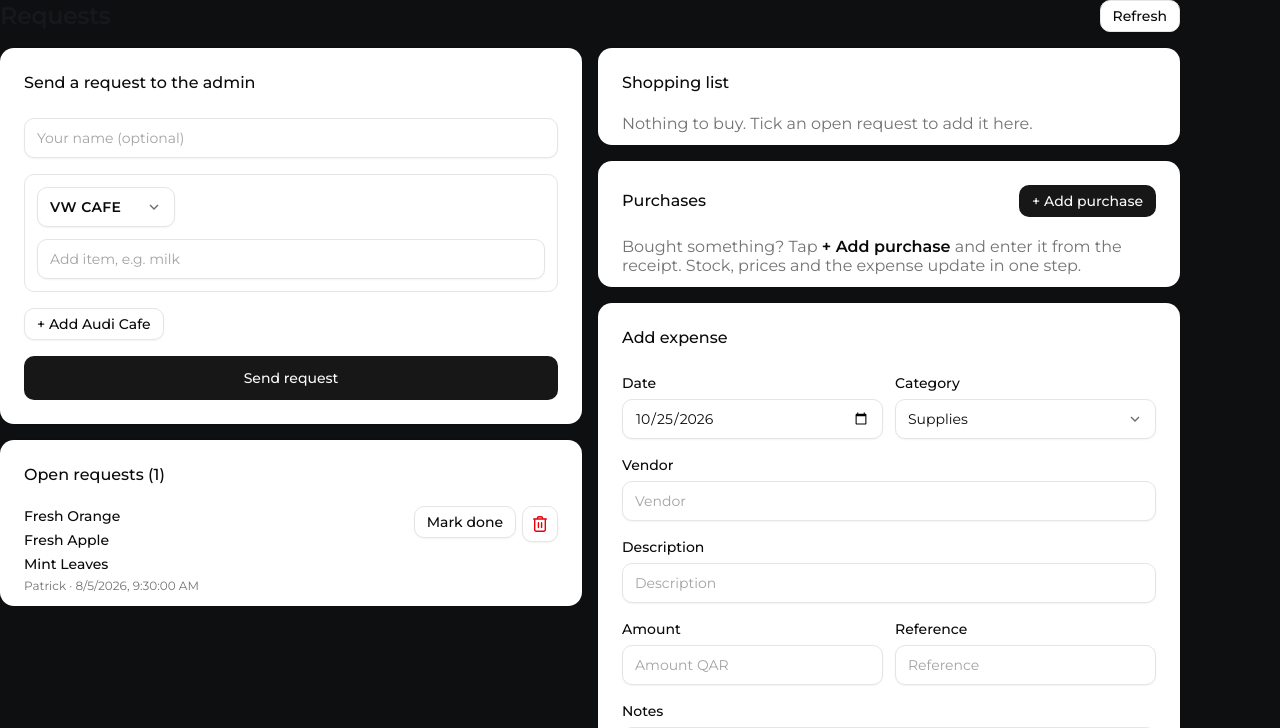
Test: opening a request › shows the full details in a popup
Click the button titled "Open this request": [72, 516] box [24,506,402,594]
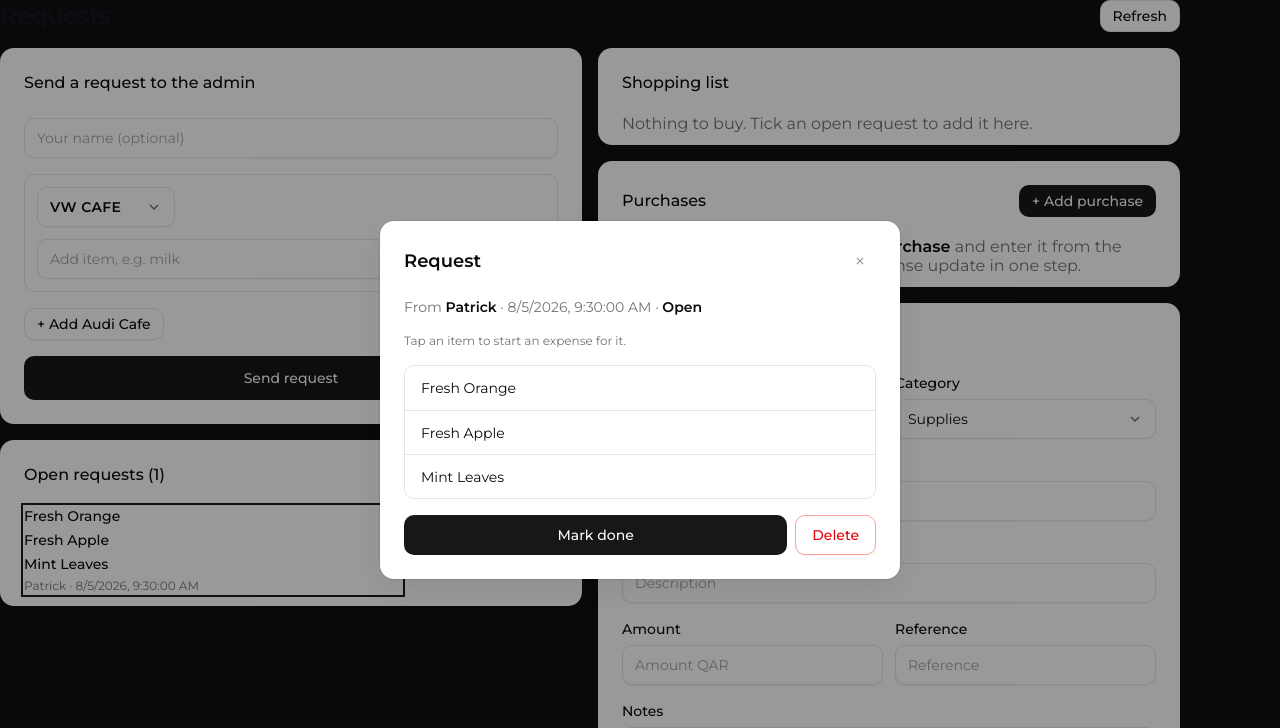
Expected: the text "Patrick" is shown, [446,298,497,316]
Expected: the text "Open" is shown, [662,298,702,316]
Expected: the text "Fresh Orange" is shown, [421,378,516,398]
